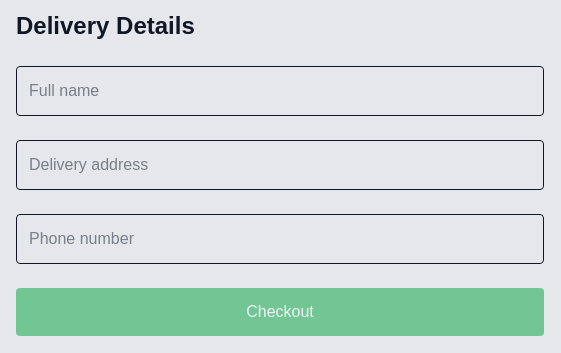
Test: CheckoutPage › enables checkout button when all fields are filled
The width and height of the screenshot is (561, 353).
Step 1. Type "John Doe" into the field with placeholder "Full name" → x=280, y=91, box [16,66,544,116]
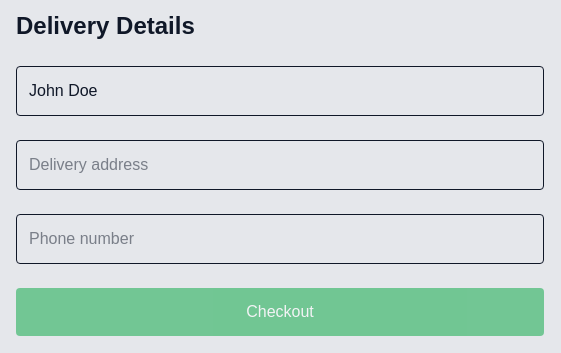
Step 2. Type "123 Main St" into the field with placeholder "Delivery address" → x=280, y=165, box [16,140,544,190]
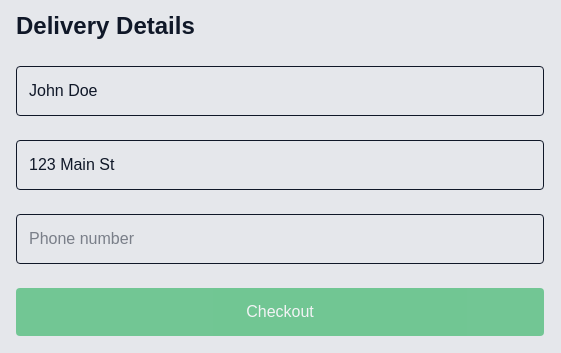
Step 3. Type "123456789" into the field with placeholder "Phone number" → x=280, y=239, box [16,214,544,264]
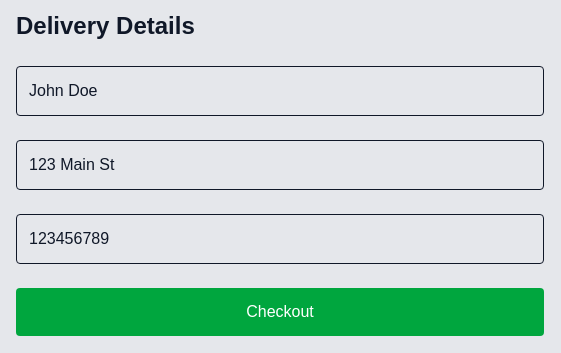
Result: the button "Checkout" is enabled at [16,288,544,336]
